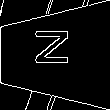N_W: (35, 35, 75, 75)
